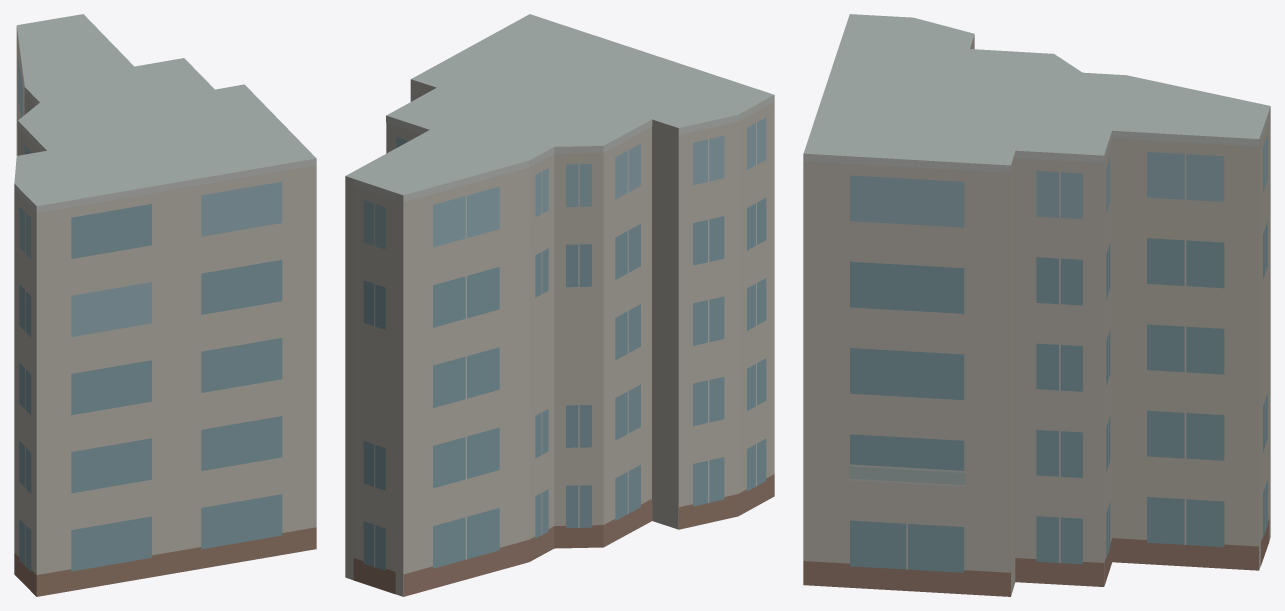
The model's file is survey-upis-32616467.glb.
3 views of the same model, side by side, from view 1: azimuth 30°, elevation 25°; view 2: azimuth 150°, elevation 25°; view 3: azimuth 270°, elevation 25° (orthographic). The views are drawn at different scales.
Visible parts, largest first — view 1: survey-upis-32616467.tmp; view 2: survey-upis-32616467.tmp; view 3: survey-upis-32616467.tmp.
Part boxes in pixels (<box>): survey-upis-32616467.tmp: <box>14,14,316,596</box>; survey-upis-32616467.tmp: <box>345,14,774,596</box>; survey-upis-32616467.tmp: <box>803,14,1270,596</box>.
Size of the model in its own units: 10.7 by 14.2 by 13.94.
